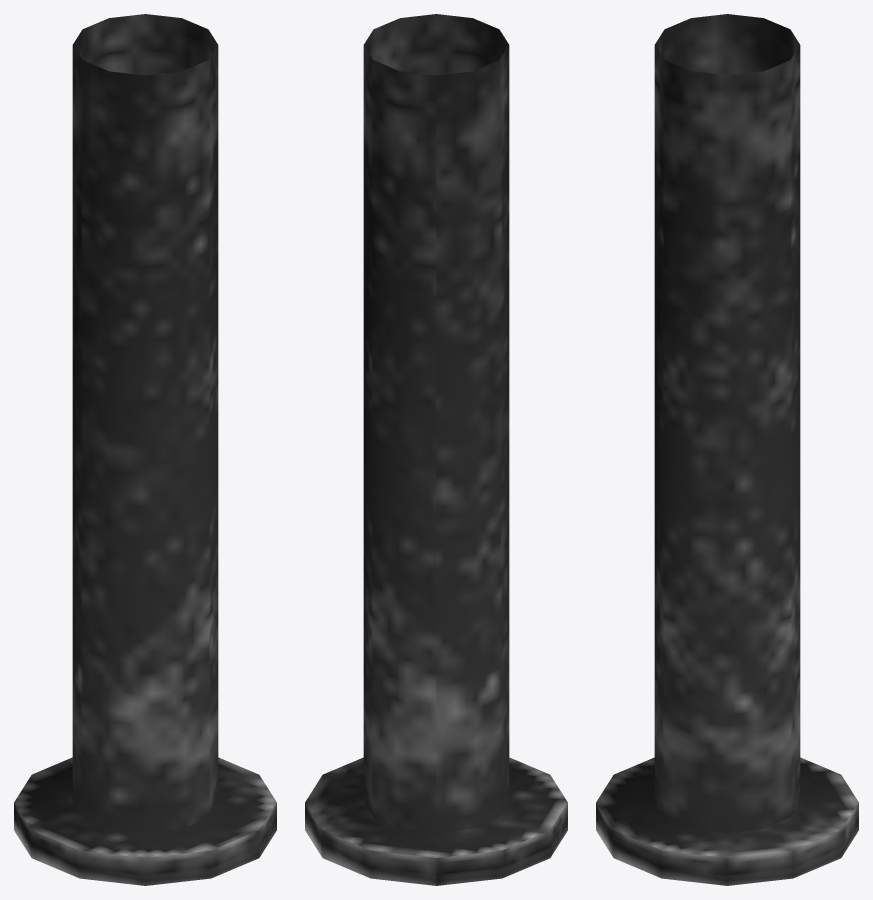
The model's file is bunker_pipe.d86099400f.glb.
The picture shows the model from 3 angles, left to right: view 1: azimuth 30°, elevation 25°; view 2: azimuth 150°, elevation 25°; view 3: azimuth 270°, elevation 25°; orthographic projection.
Visible parts, largest first — view 1: bunker_pipe; view 2: bunker_pipe; view 3: bunker_pipe.
Part boxes in pixels (x1,y1,x2,y2): bunker_pipe: (14, 14, 276, 885); bunker_pipe: (305, 14, 567, 885); bunker_pipe: (596, 14, 858, 885).
Bounding box in the file's own units: 0.9098 × 3 × 0.9098.
Materials: 1 (1 with a texture image).
